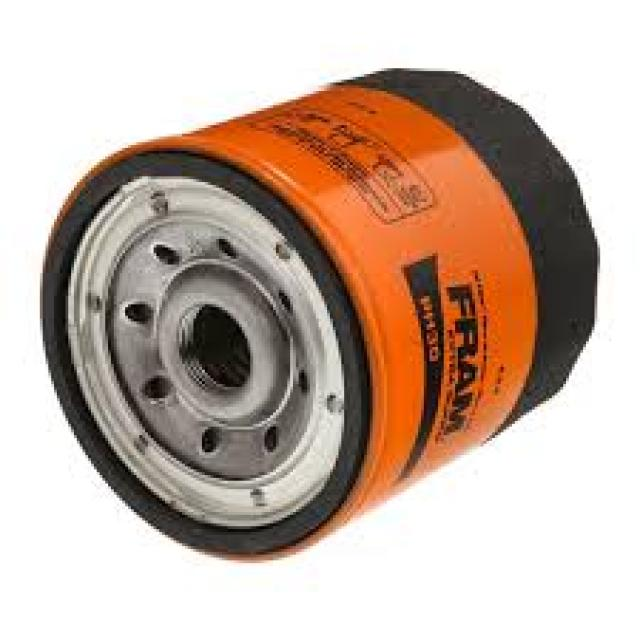oil_filter: (28, 58, 605, 570)
